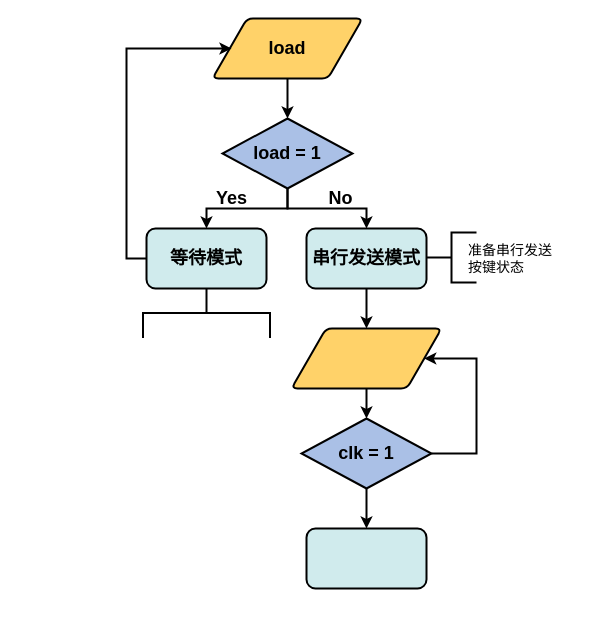
Image size: 593x625. Some labels were removed from this diagram. Here are the shapes that lost their labels. From the top down, the box of each, then its label:
(142, 286, 270, 338): 记录按键状态到 移位寄存器
(290, 327, 442, 389): clk
(305, 527, 427, 589): 从data 串行 发送 按键状态
